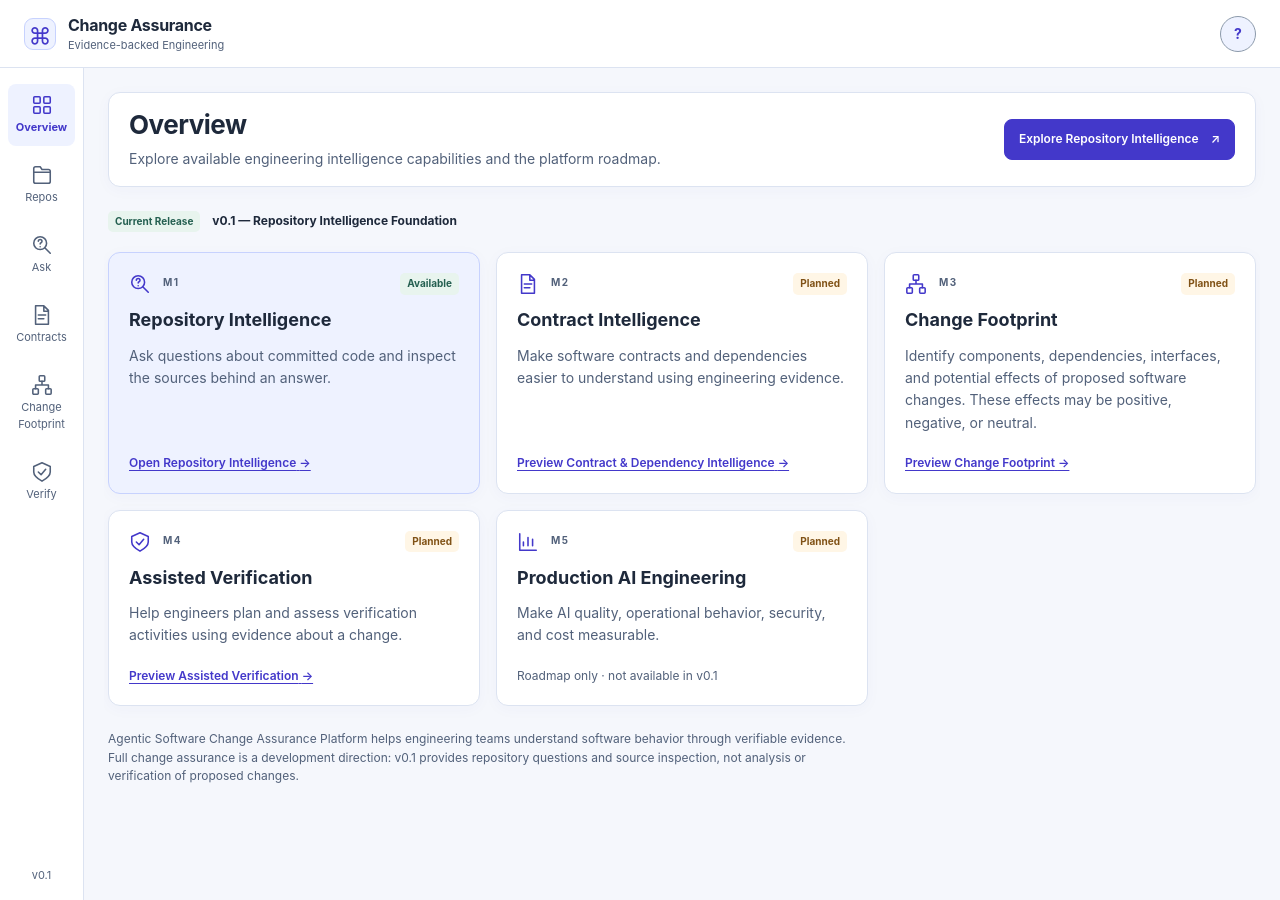
it: makes the expanded Repository Intelligence guidance searchable with stakeholder examples and limits
The image size is (1280, 900).
Click the button named "Open Help Center" at (1238, 34), box [1220, 16, 1256, 52]
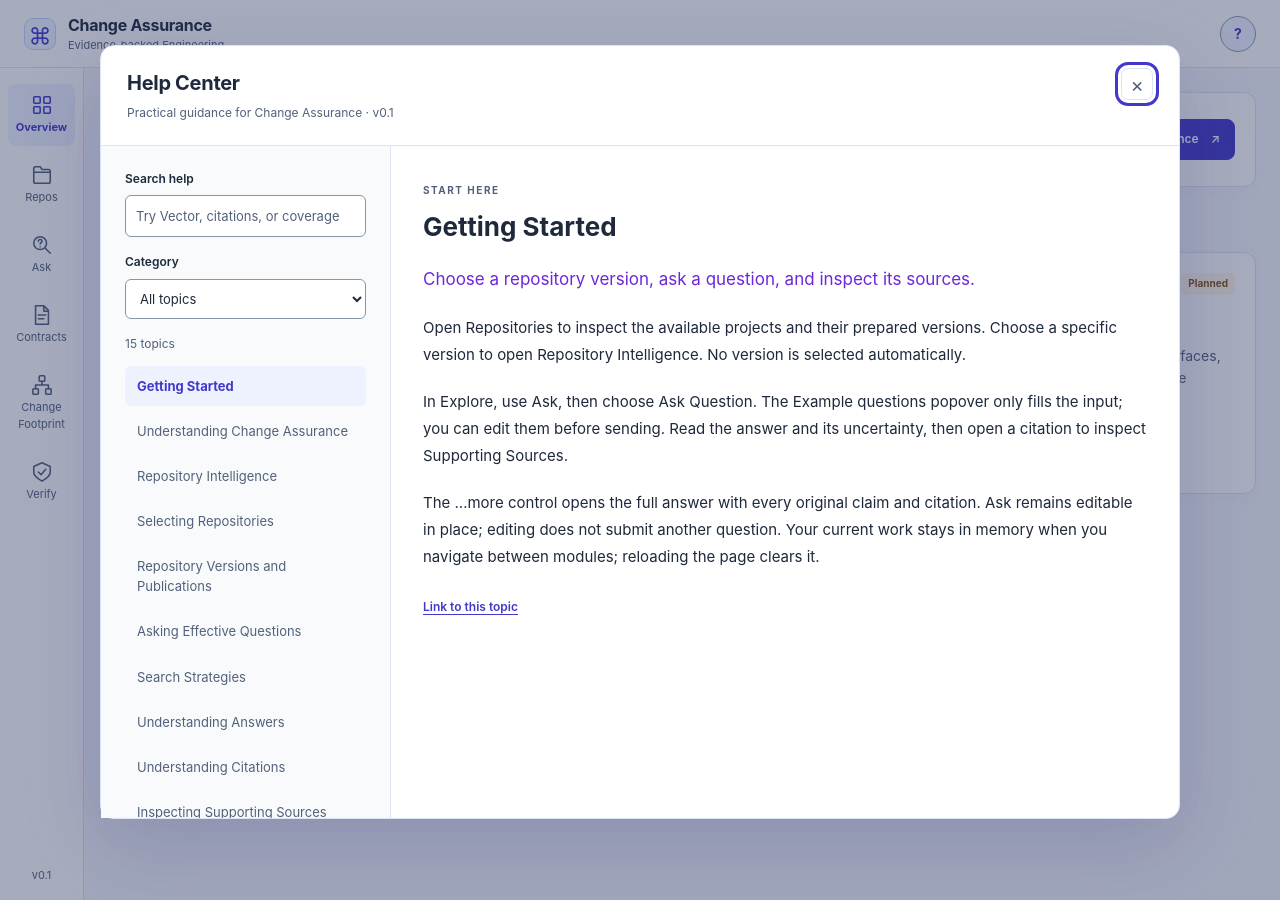
Type "system engineer" into the search field labelled "Search help" at (246, 216), box [125, 195, 366, 237]
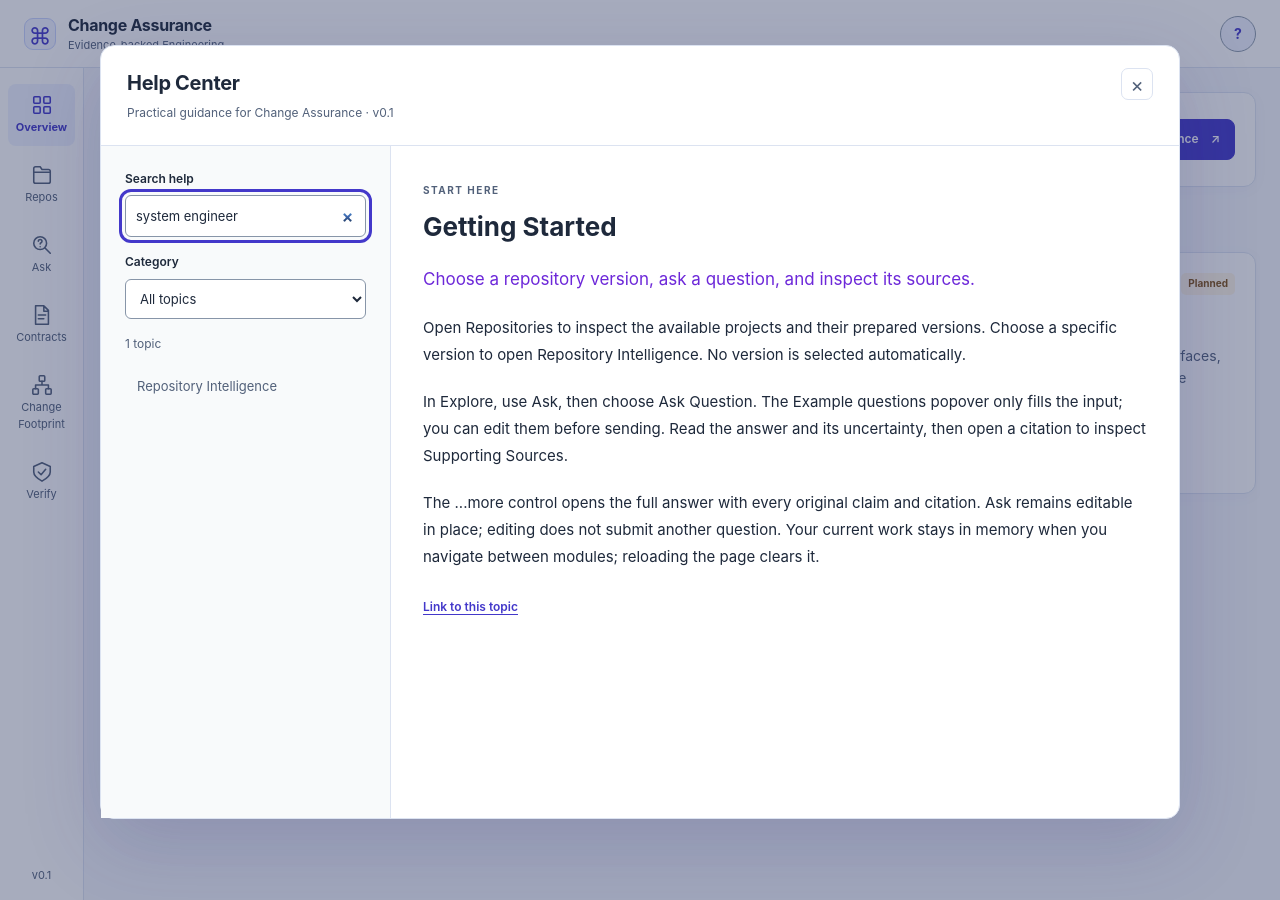
Click the link "Repository Intelligence" at (207, 386), box [137, 378, 277, 394]
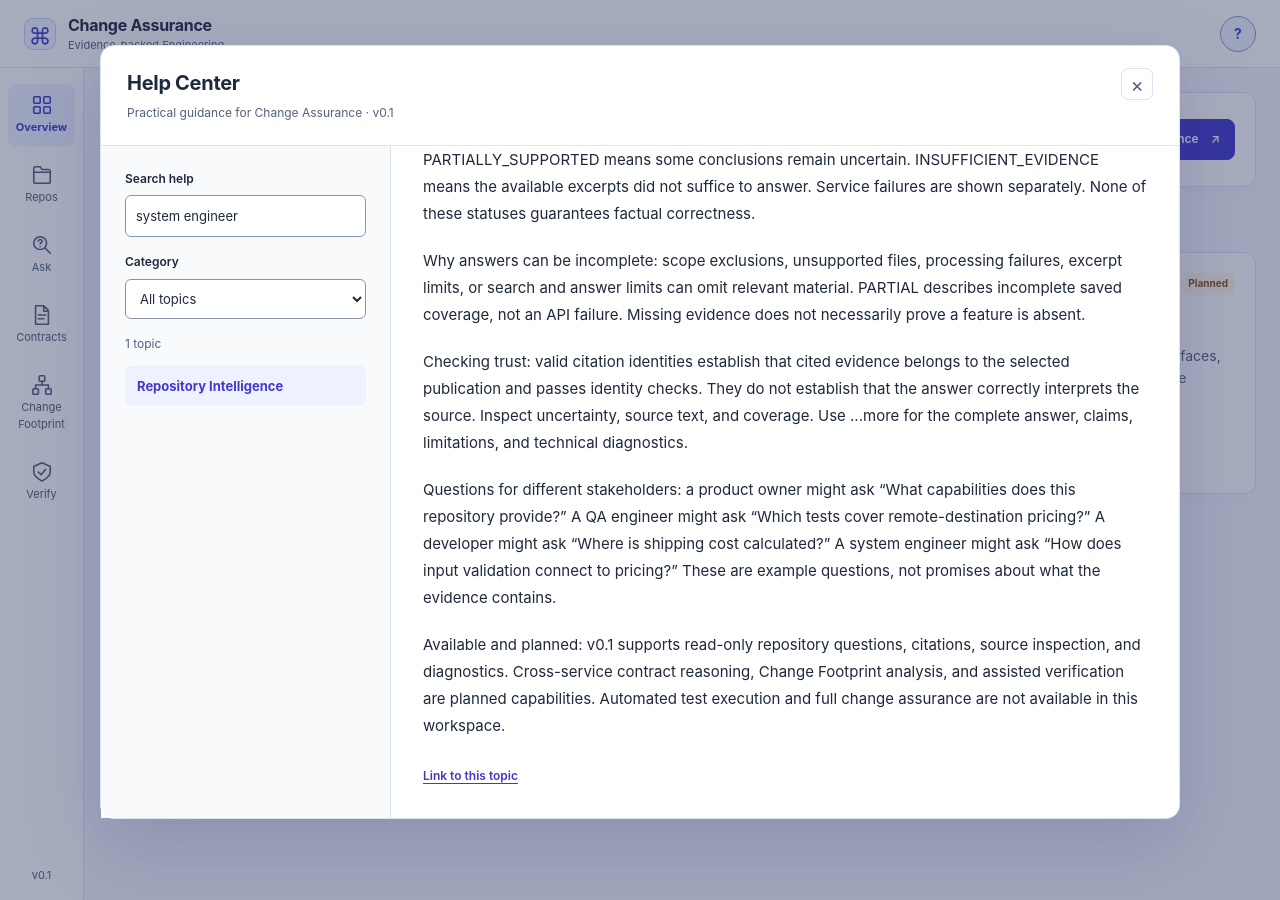
expect the text "What capabilities does this repository provide" shows "QA engineer": met, box [423, 480, 1122, 607]
expect the text "Reading statuses" shows "INSUFFICIENT_EVIDENCE": met, box [423, 146, 1146, 223]
expect the text "Why answers can be incomplete" shows "Missing evidence does not necessarily prove": met, box [423, 251, 1122, 324]
